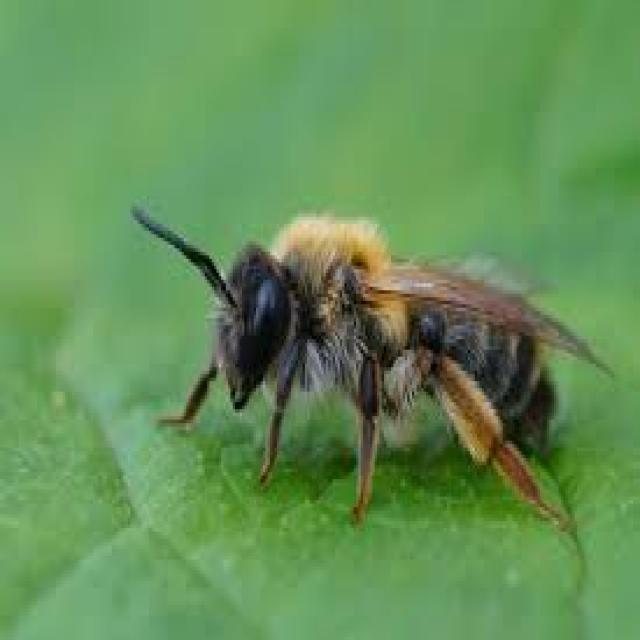Bees: (129, 202, 615, 542)
